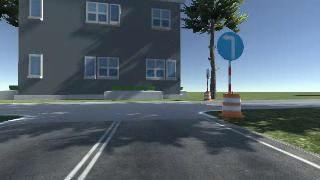turn_left: (218, 33, 245, 59)
